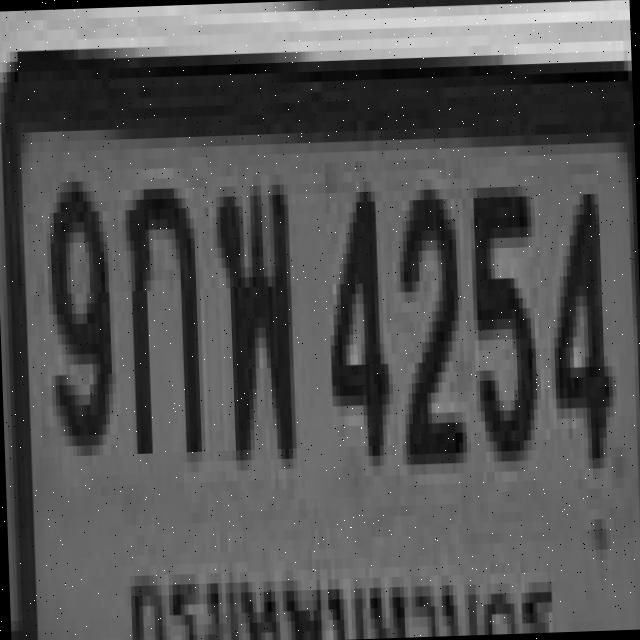10GorGai: (120, 172, 198, 449)
2: (392, 173, 460, 450)
39PhorPan: (210, 174, 292, 451)
4: (320, 181, 388, 457), (544, 178, 607, 454)
5: (468, 176, 536, 452)
9: (44, 165, 110, 441)
